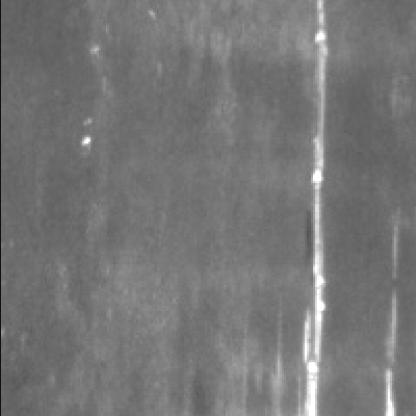scratches: (287, 6, 329, 416), (375, 237, 400, 416)
